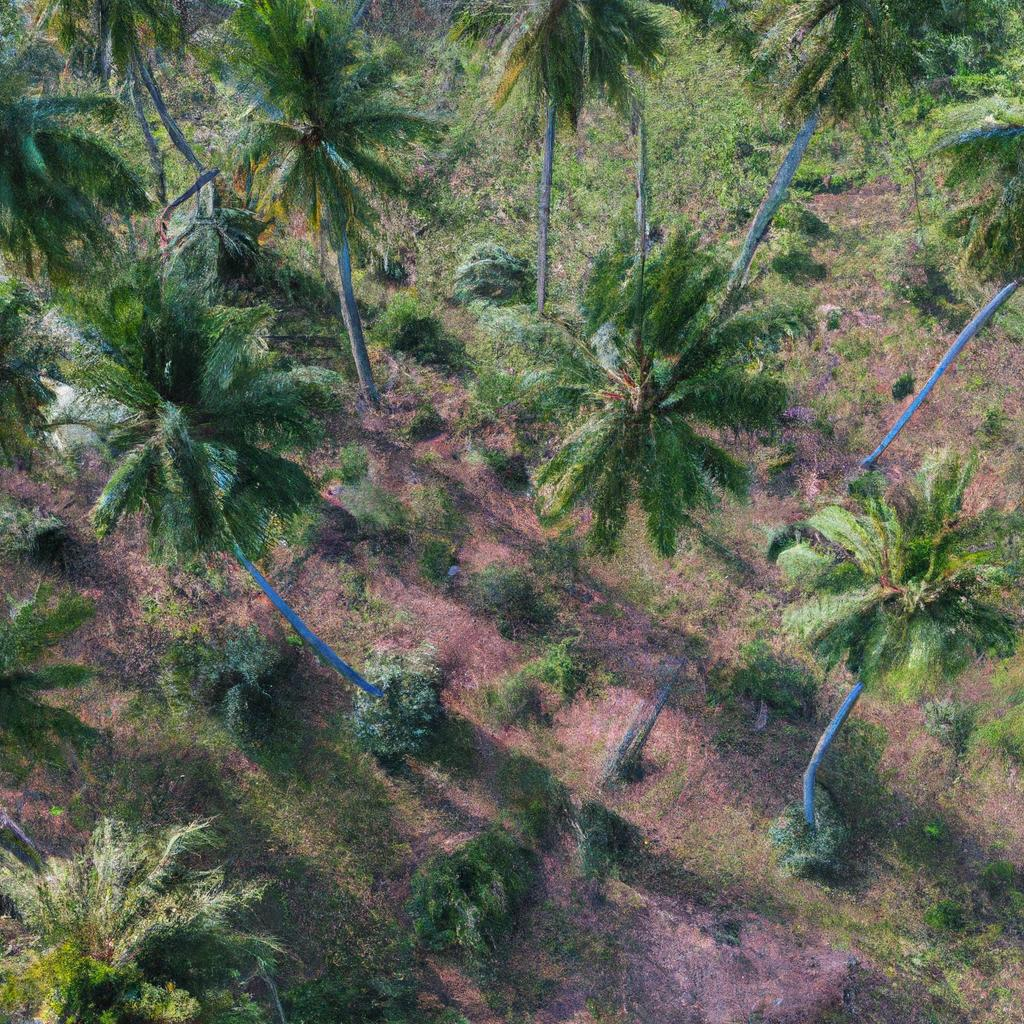coconut_tree: (38, 229, 366, 591), (512, 197, 822, 547), (763, 431, 1023, 707), (187, 1, 454, 258)
